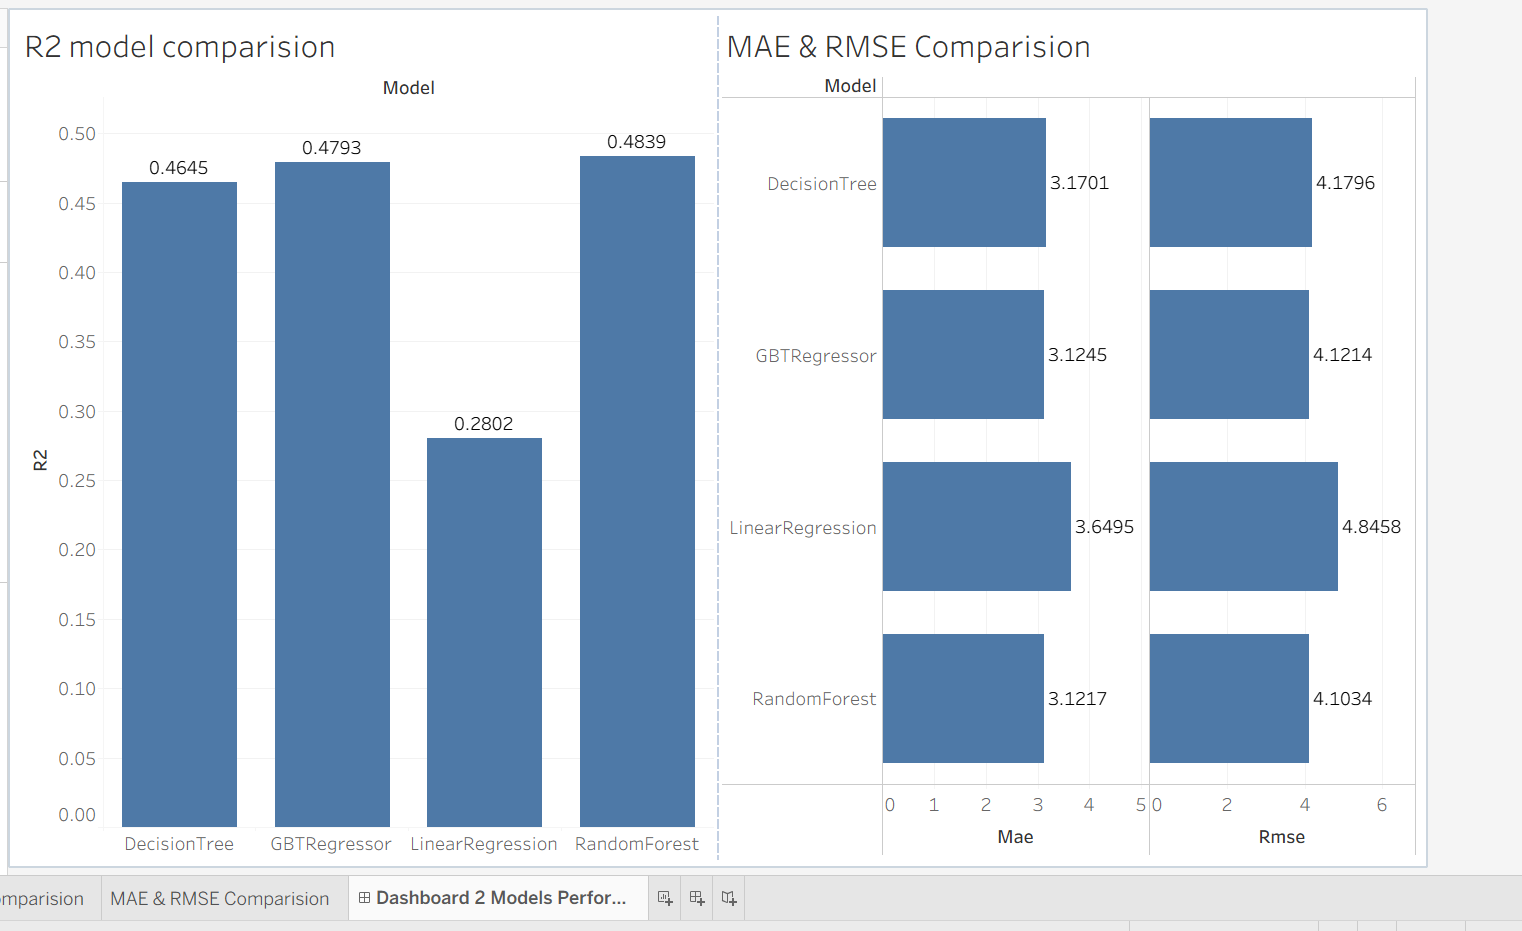

The page's visual inventory and layout, read from the dashboard file:
{"tool":"tableau","page":{"name":"Dashboard 2 Models Performance","canvas":[1000,1000],"units":"permille","ordinal":0},"visuals":[{"type":"worksheet","title":"R2 model comparision","mark":"Automatic","rows":["r2"],"cols":["model"],"box":[5.6,9.3,494.4,981.4]},{"type":"worksheet","title":"MAE & RMSE Comparision","mark":"Automatic","rows":["model"],"cols":["mae","rmse"],"box":[500,9.3,494.4,981.4]}]}

Visuals, with their boxes on the dashboard's canvas, which has no fixed pixel size, in thousandths of its width and height (x1, y1, x2, y2). These are canvas units, not pixel positions in the 1522x931 screenshot, which may show the page scaled, cropped or inside an application window:
"R2 model comparision" worksheet: {"left": 6, "top": 9, "right": 500, "bottom": 991}
"MAE & RMSE Comparision" worksheet: {"left": 500, "top": 9, "right": 994, "bottom": 991}
